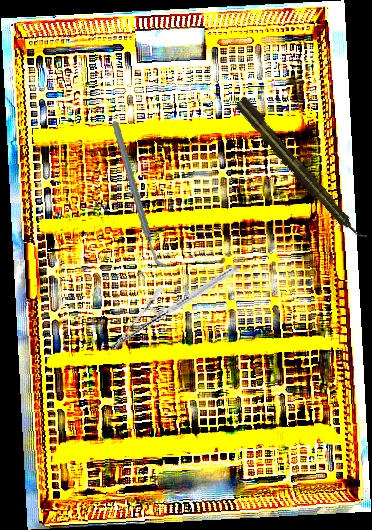Chopper: (94, 120, 184, 270)
Handpiece: (232, 94, 369, 247)
Needle Holder: (110, 232, 239, 383)
